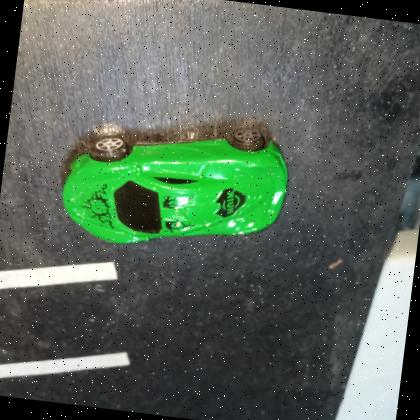Car: (52, 108, 294, 266)
